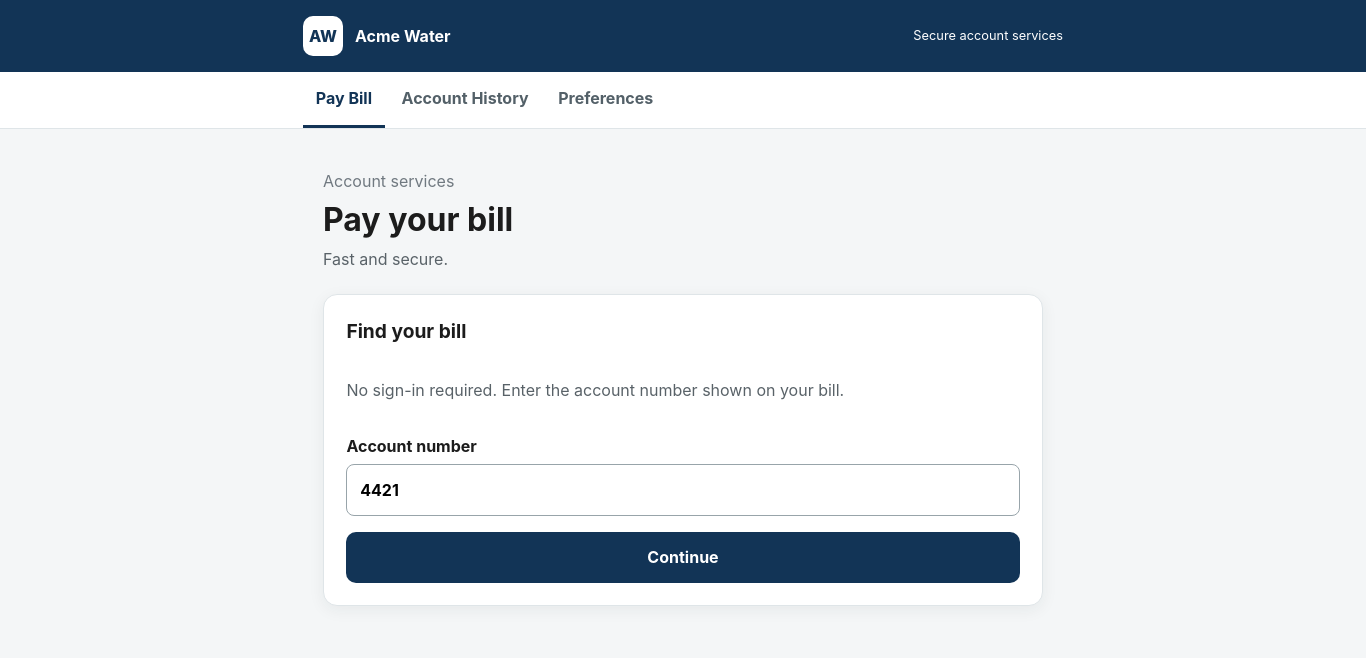
Scenario: payment assistant surface › offers an in-chat confirm control on pay intent and pays through it
The image size is (1366, 658).
Click the button with test id "lookup-submit" at (683, 557), box [346, 532, 1020, 583]
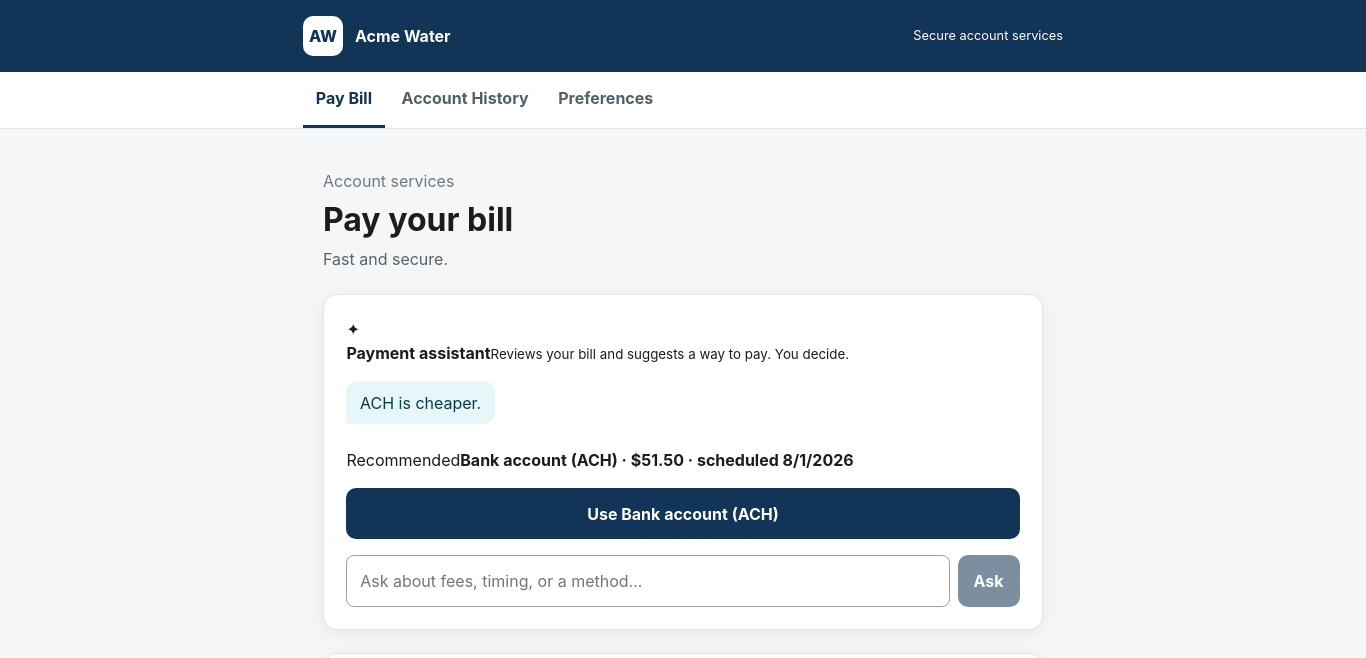
Expected: the element with test id "assistant-transcript" is shown, [346, 381, 495, 424]
Type "let's pay it now" into the field with test id "assistant-input" at (648, 581), box [346, 555, 950, 607]
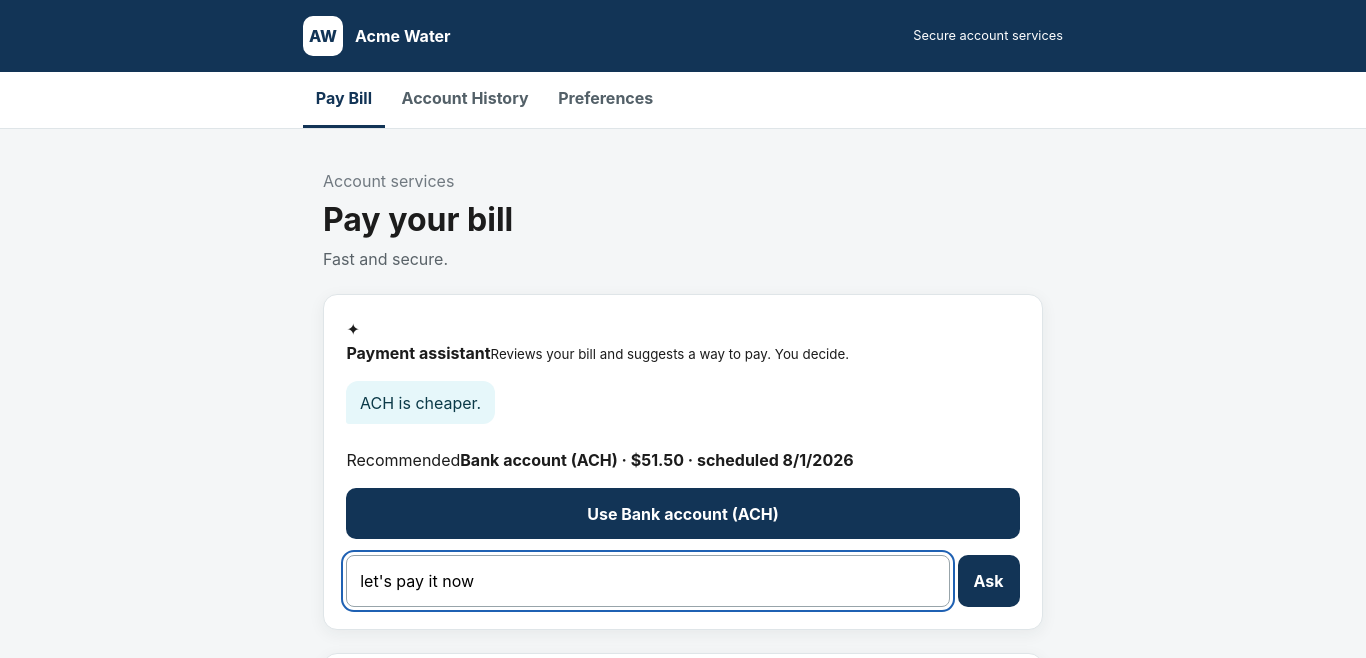
Click the button with test id "assistant-send" at (989, 581), box [958, 555, 1020, 607]
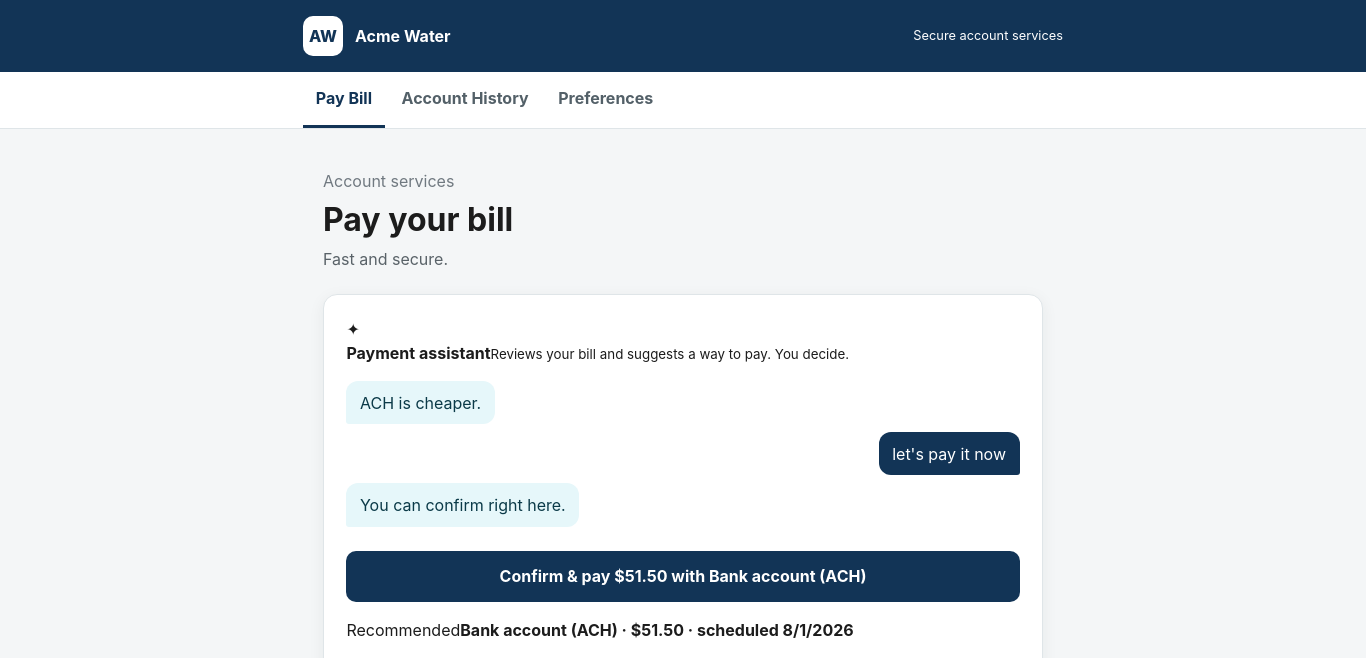
Click the button with test id "assistant-confirm" at (683, 576), box [346, 550, 1020, 602]
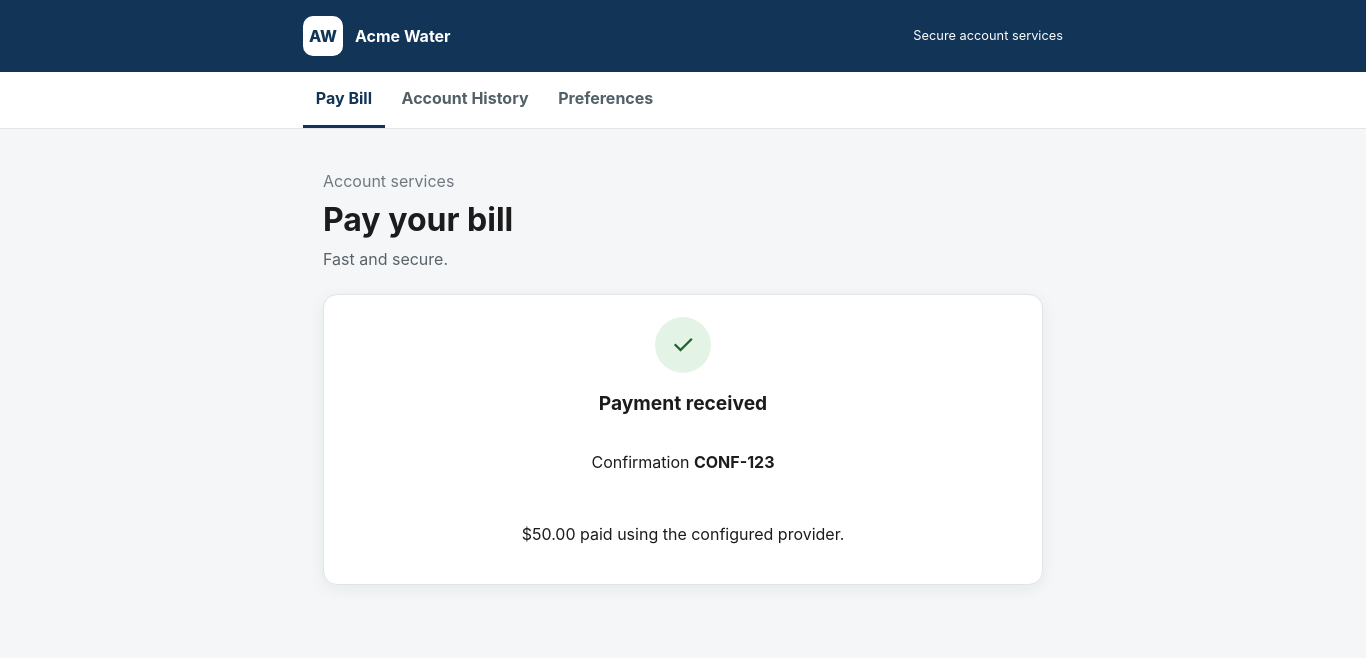
Expected: the element with test id "payment-confirmation" is shown, [323, 294, 1043, 585]
